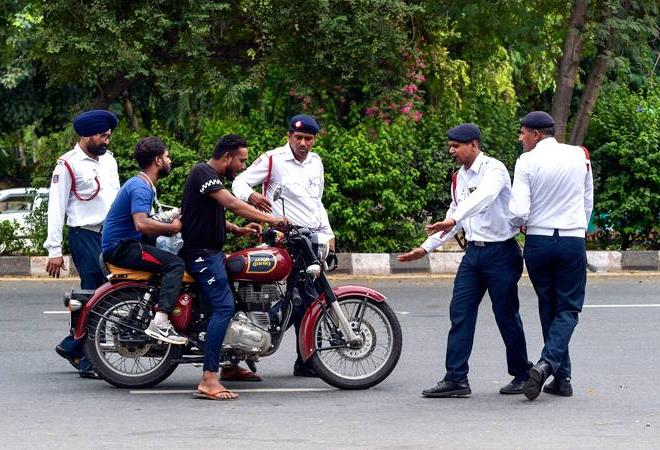Helmet: (66, 115, 128, 133)
